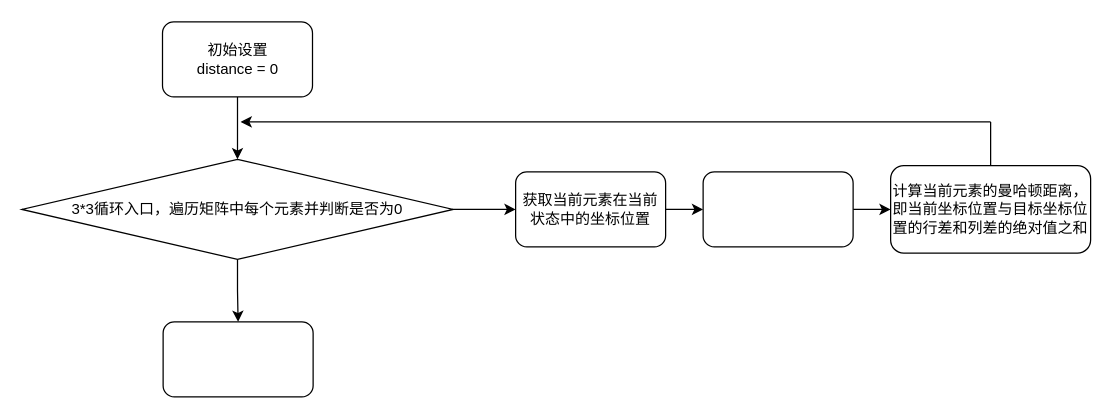
Image size: 1113x419. Some labels were removed from this diagram. Here are the shapes that lost their labels. From the top down, the centre of each, then its label:
At (x=777, y=209): "获取当前元素在目标状态中的坐标位置".
At (x=237, y=359): "退出循环返回distance".
